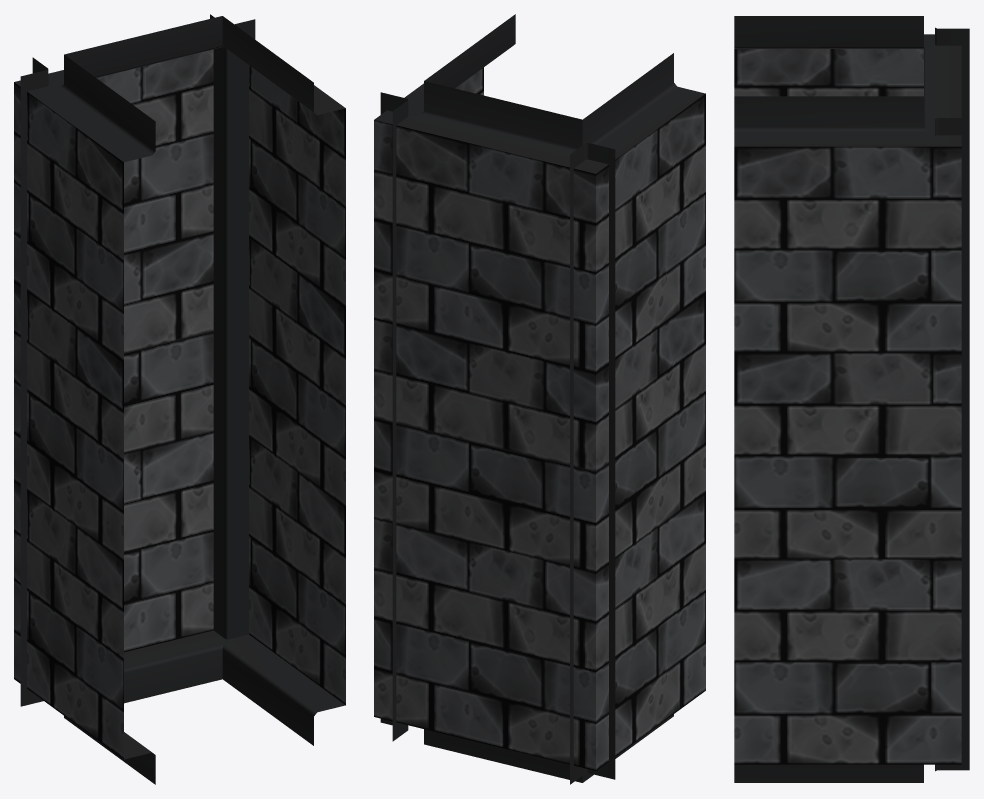
The model's file is M_Wall_Inward.fbx.
3 views of the same model, side by side, from view 1: azimuth 30°, elevation 25°; view 2: azimuth 150°, elevation 25°; view 3: azimuth 270°, elevation 25° (orthographic). The views are drawn at different scales.
Parts seen in each view (by area): view 1: Wall_Inward; view 2: Wall_Inward; view 3: Wall_Inward.
Boxes of the visible parts, box(x1,y1,x2,y2) form: Wall_Inward: box(14, 14, 345, 784); Wall_Inward: box(374, 14, 705, 784); Wall_Inward: box(734, 16, 969, 782).
Size of the model in its own units: 148 by 400 by 124.
